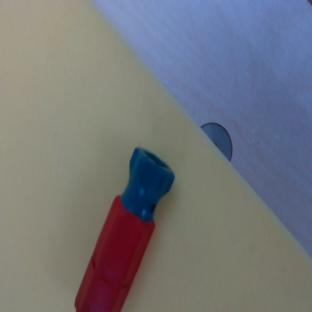part_2_good: (69, 145, 180, 312)
